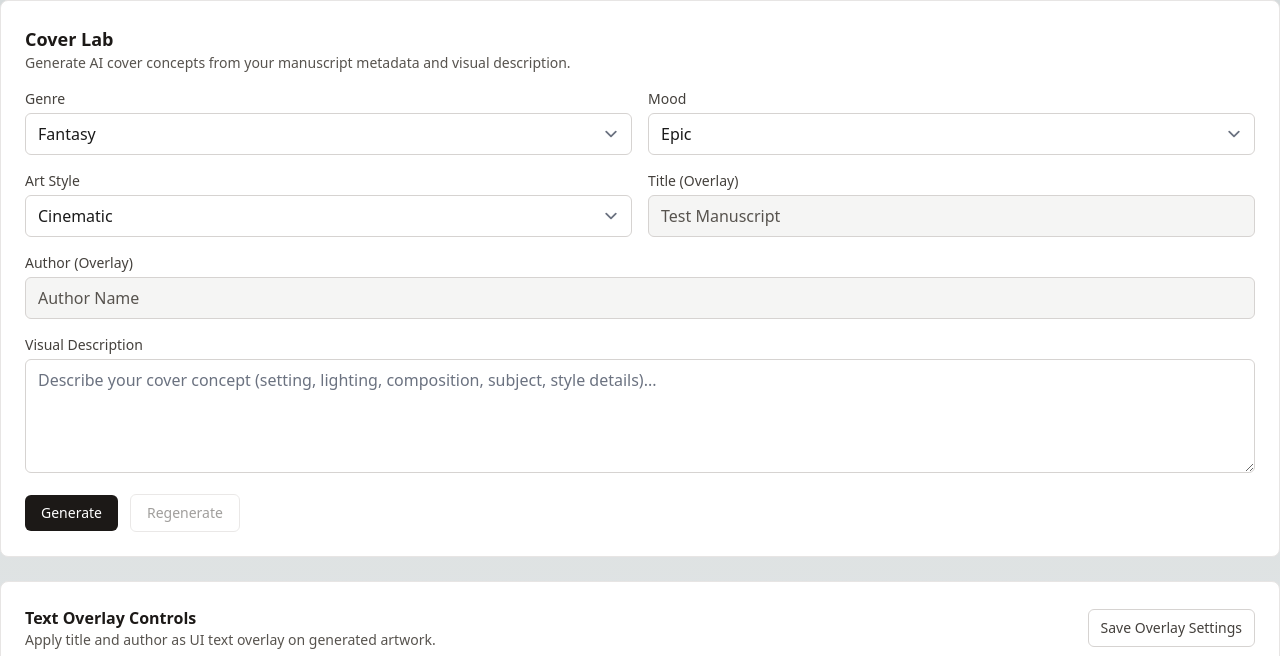
Test case: CoverGenerator › shows a user-facing error when generate request fails at network layer
Step 1. Replace the text in the text box labelled "Visual Description" with "A storm over snowy mountain peaks and ruined citadel" → x=640, y=416, box [25, 359, 1255, 473]
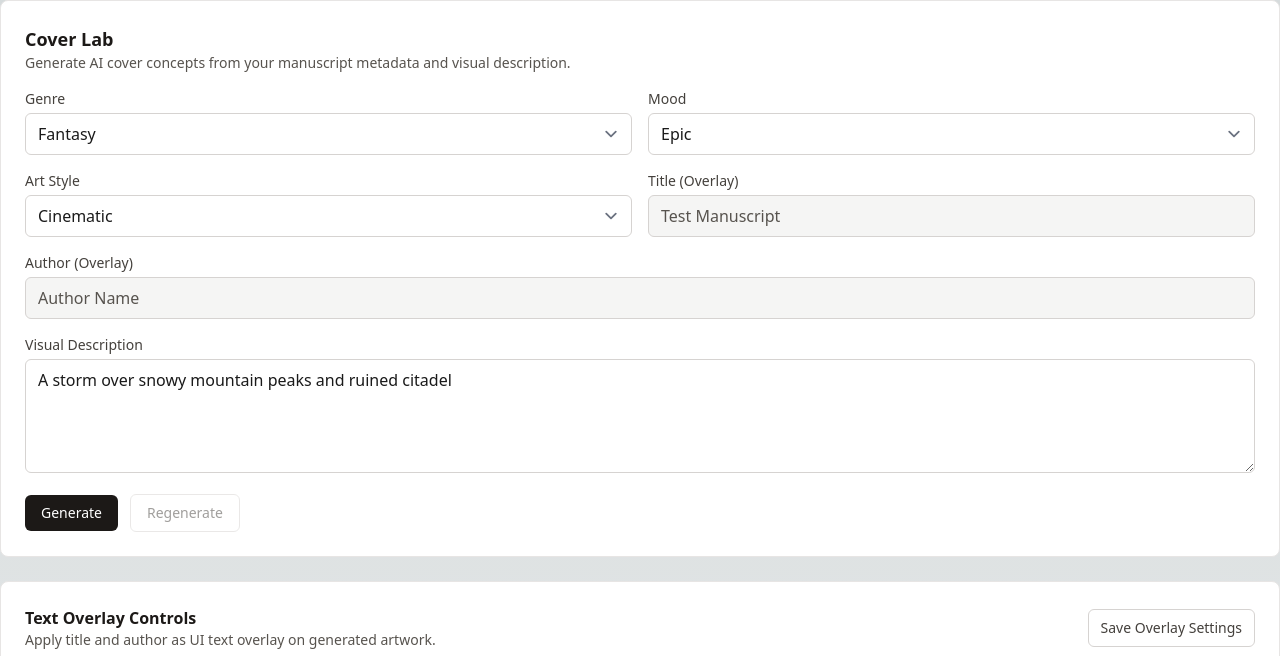
Step 2. Click the button "Generate" → x=72, y=513, box [25, 495, 118, 531]
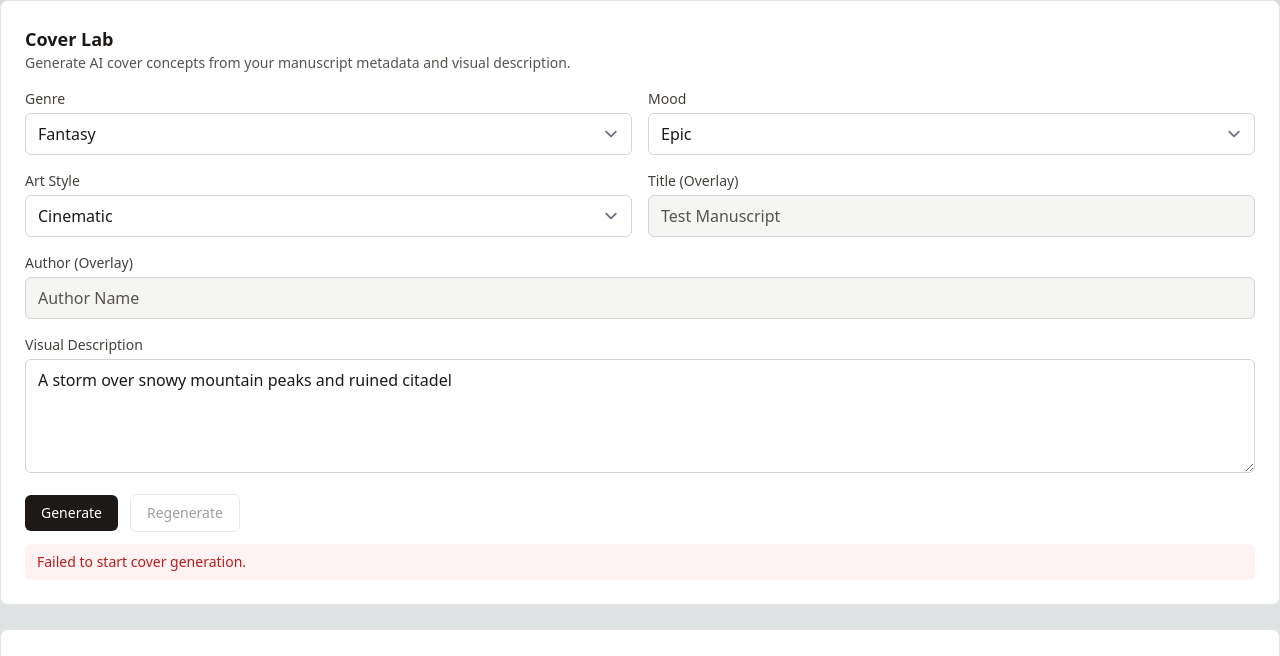
Expected: the text "Failed to start cover generation." is shown, [25, 544, 1255, 580]
